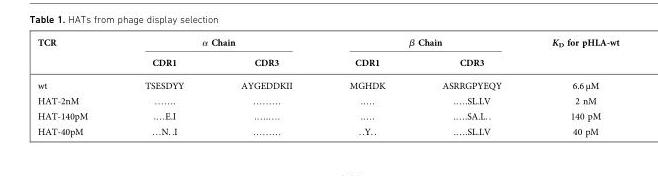table: (36, 37, 618, 136)
table column: (413, 37, 526, 136), (211, 37, 320, 136), (115, 37, 211, 136), (320, 37, 413, 136), (526, 37, 618, 136), (36, 37, 115, 136)
table column header: (36, 37, 618, 74)
table row: (36, 52, 618, 74), (36, 74, 618, 93), (36, 37, 618, 52), (36, 93, 618, 108), (36, 108, 618, 123), (36, 123, 618, 136)
table spanning cell: (526, 37, 618, 74), (320, 37, 526, 52), (115, 37, 320, 52), (36, 37, 115, 74)
